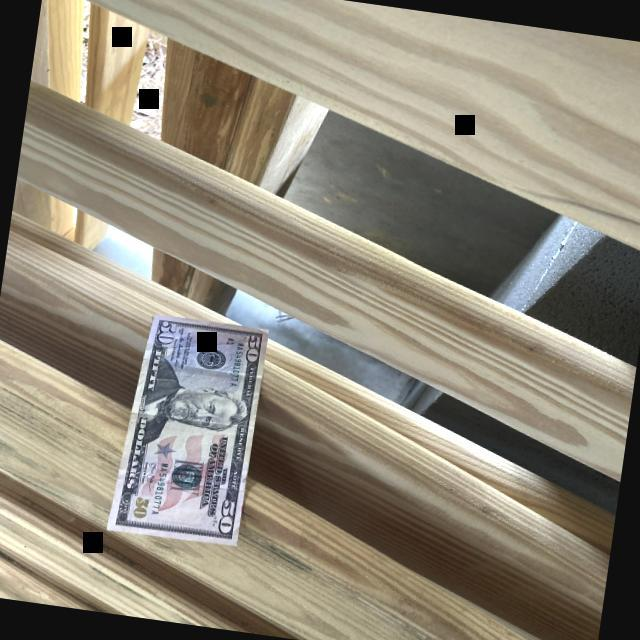fifty: (107, 315, 269, 546)
